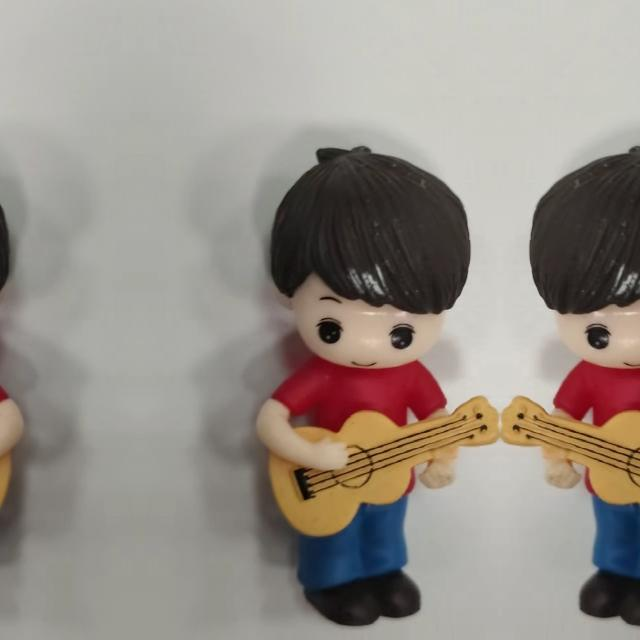man cloth: (269, 374, 451, 496), (549, 374, 640, 495), (0, 374, 11, 495)
man head: (260, 136, 474, 374), (526, 135, 640, 374), (0, 135, 20, 374)
trousers: (294, 502, 440, 620), (560, 502, 640, 620)
